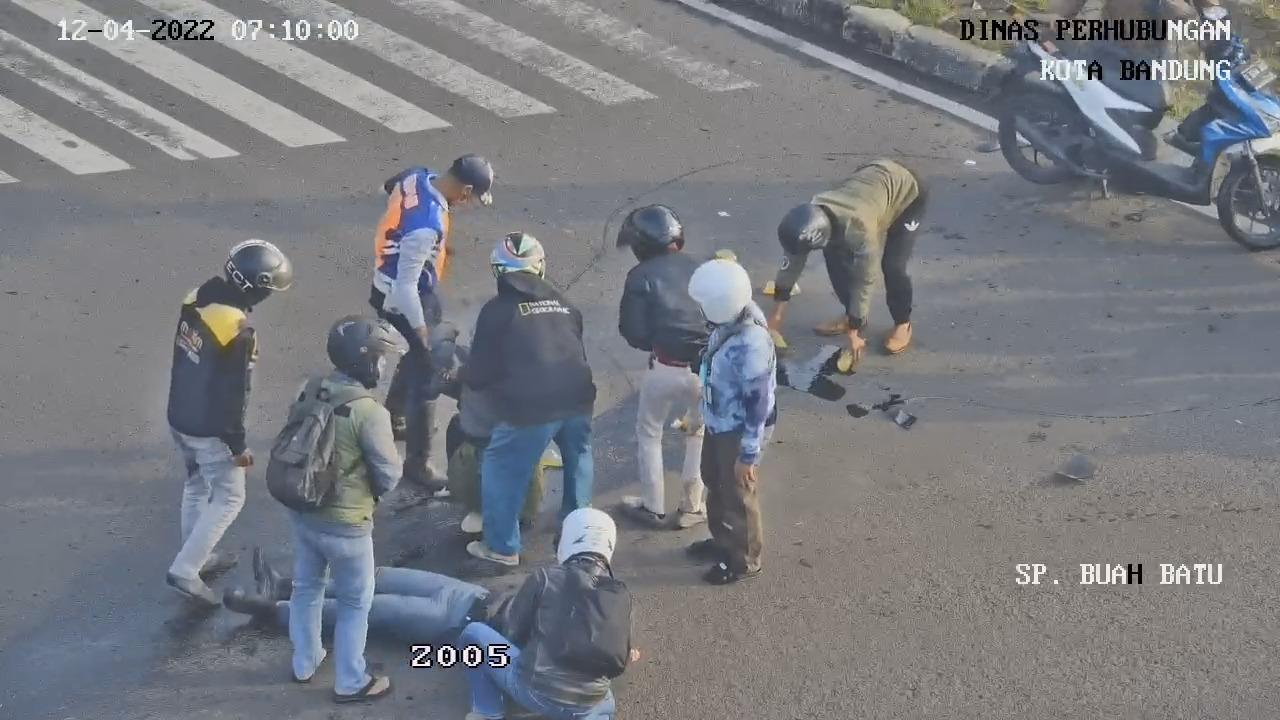accident: (207, 539, 539, 653)
